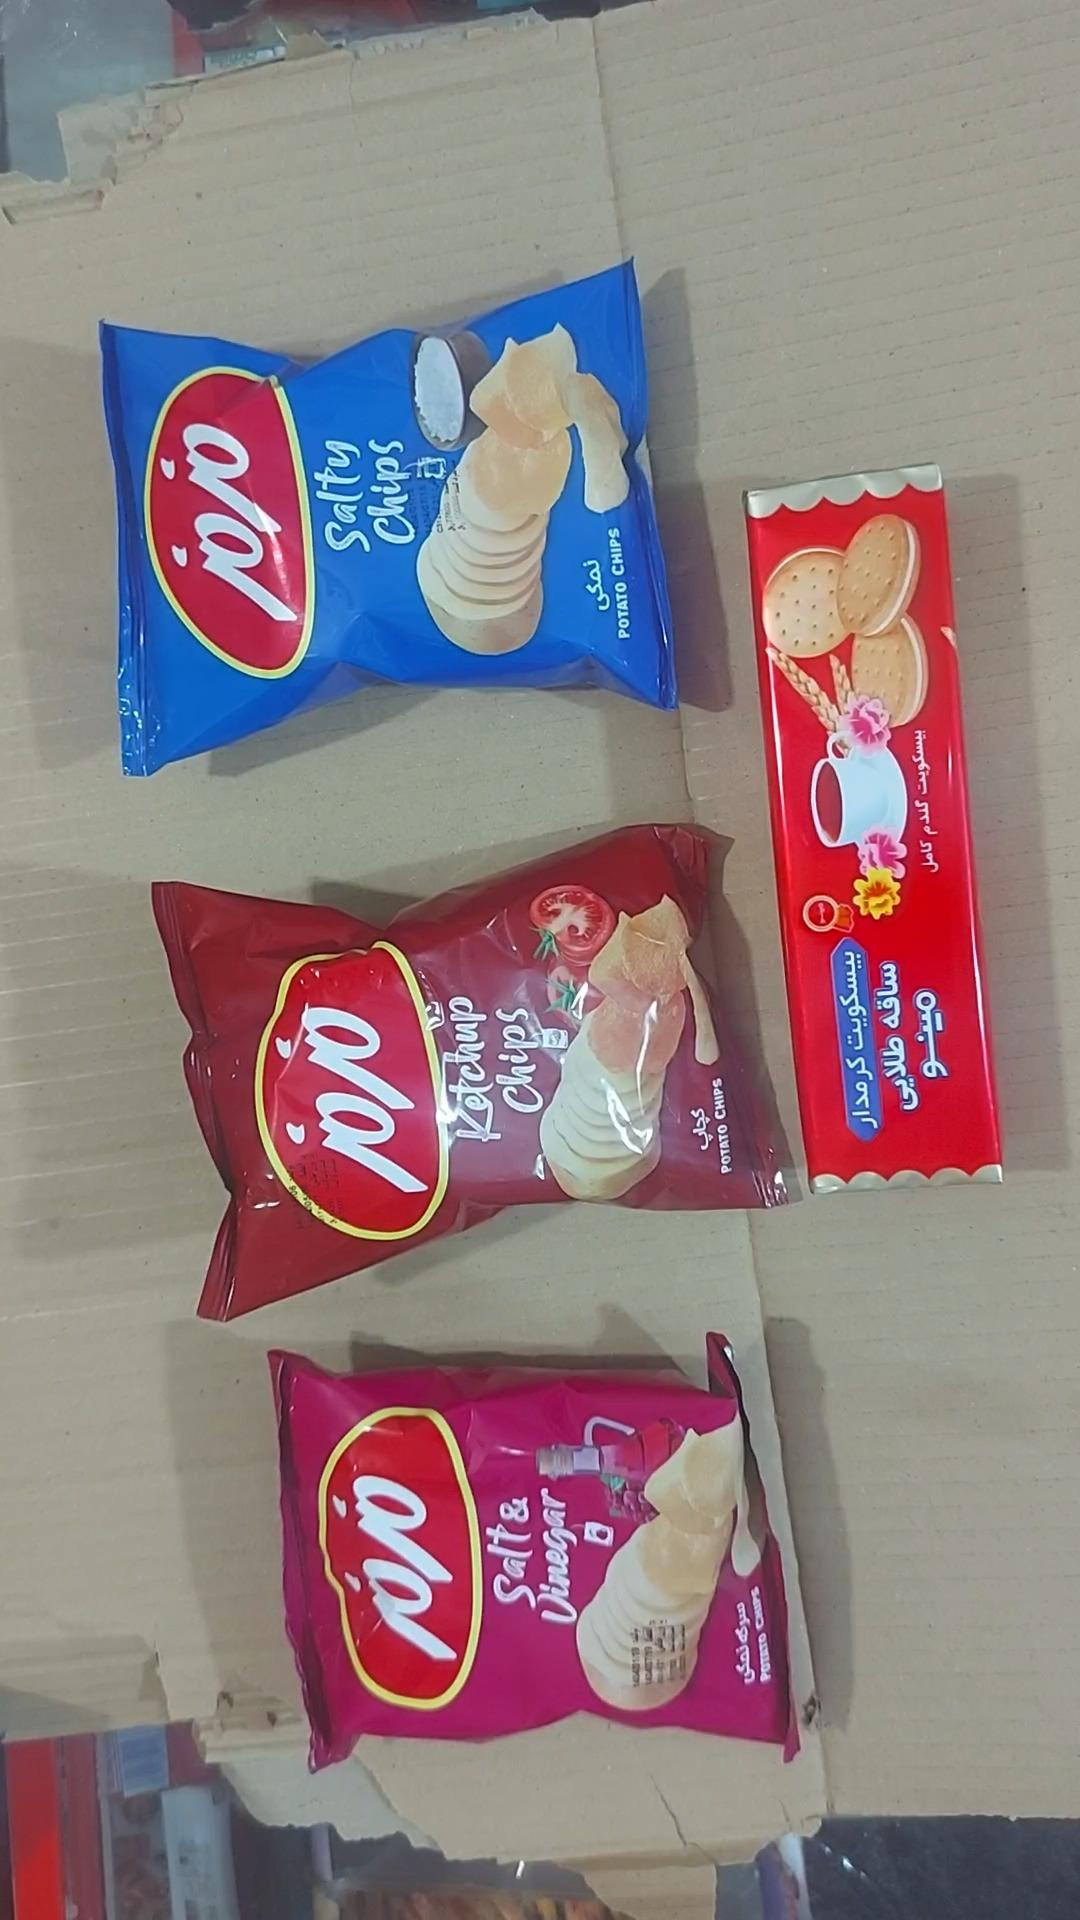Maz Maz ketchup chips: (153, 825, 793, 1320)
Maz Maz salty chips: (102, 265, 676, 775)
Maz Maz vinegar chips: (272, 1335, 799, 1768)
Minoo cream biscuit: (745, 467, 1002, 1191)
